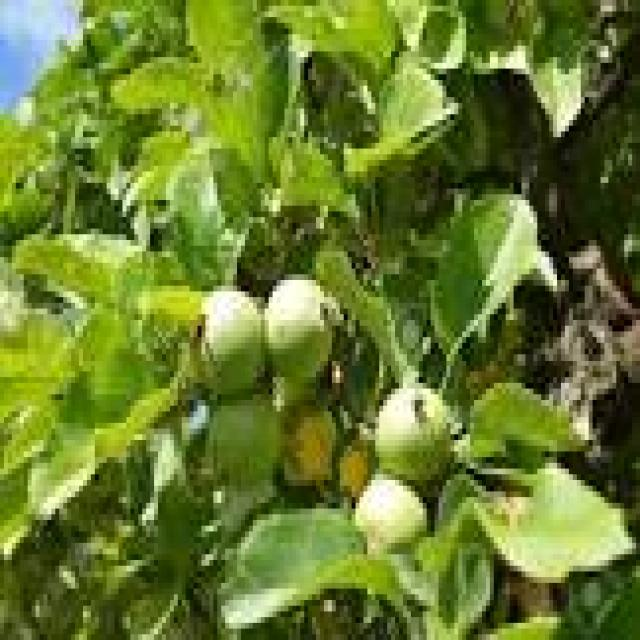apple: (375, 383, 450, 480), (265, 274, 332, 377), (209, 394, 280, 486), (201, 286, 261, 394), (356, 474, 423, 549)
